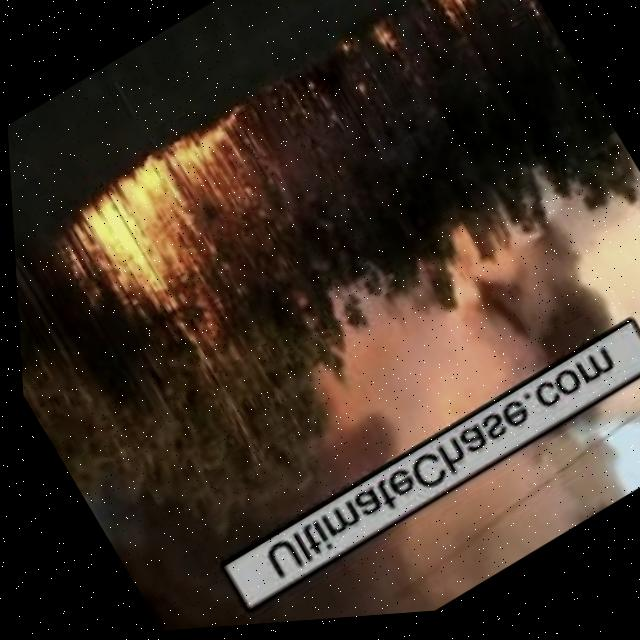Fire: (55, 109, 304, 326), (426, 0, 497, 41), (365, 20, 414, 76)
Smoke: (155, 350, 640, 632), (280, 161, 640, 486)
